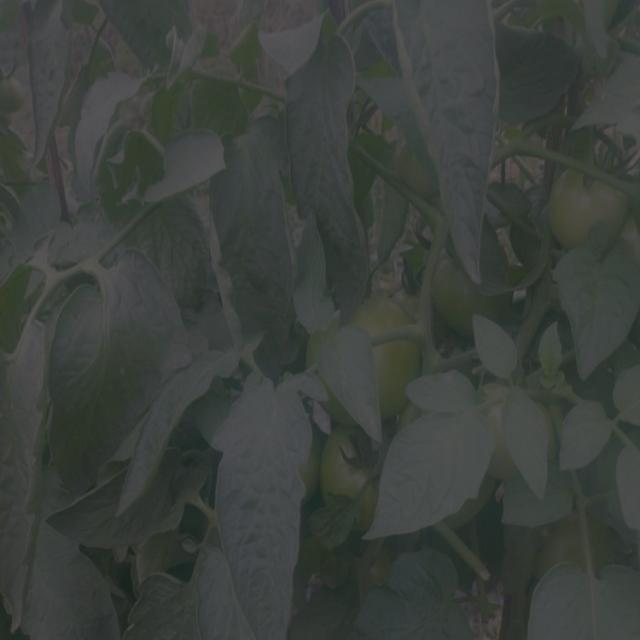tomato: (358, 295, 423, 407), (547, 162, 629, 242), (429, 251, 479, 328), (320, 432, 366, 495), (539, 514, 587, 566)
